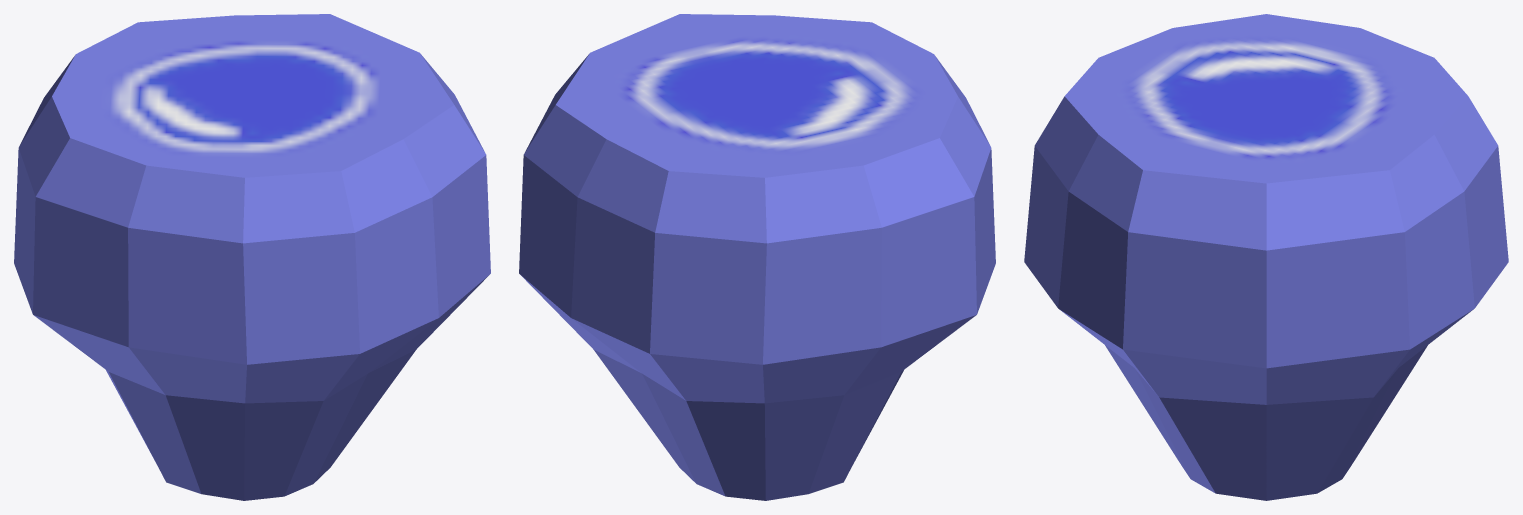
File: buttonBlueball.glb
3 renders of one model, left to right at view 1: azimuth 30°, elevation 25°; view 2: azimuth 150°, elevation 25°; view 3: azimuth 270°, elevation 25°, orthographic.
Parts seen in each view (by area): view 1: buttonBall; view 2: buttonBall; view 3: buttonBall.
Boxes of the visible parts, x1,y1,x2,y2 form: buttonBall: [14, 14, 490, 500]; buttonBall: [519, 14, 995, 500]; buttonBall: [1024, 14, 1508, 500].
Bounding box in the file's own units: 0.4606 × 0.3815 × 0.4582.
Materials: 1 (1 with a texture image).
